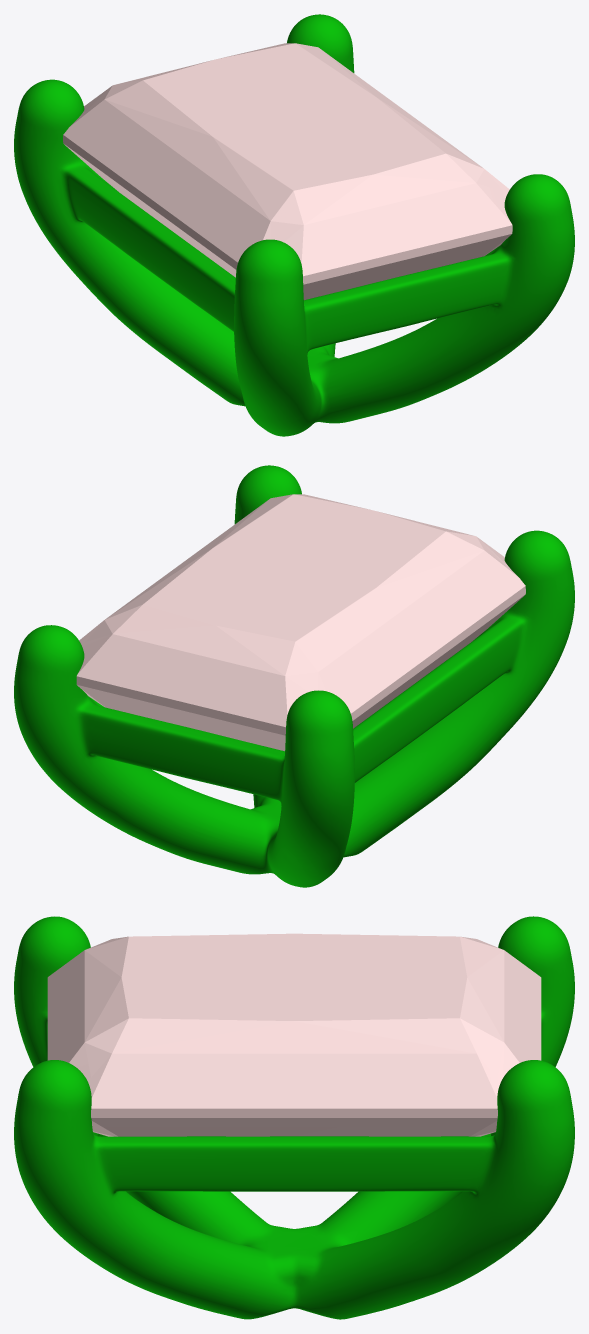
The picture shows the model from 3 angles, top to bottom: view 1: azimuth 30°, elevation 25°; view 2: azimuth 150°, elevation 25°; view 3: azimuth 270°, elevation 25°; orthographic projection. The views are drawn at different scales.
Visible parts, largest first — view 1: Metal01, Diamond_Radiant; view 2: Metal01, Diamond_Radiant; view 3: Metal01, Diamond_Radiant.
Boxes of the visible parts, x1,y1,x2,y2 form: Metal01: (14, 14, 574, 436); Diamond_Radiant: (63, 43, 512, 300); Metal01: (14, 465, 574, 887); Diamond_Radiant: (76, 494, 525, 751); Metal01: (14, 916, 574, 1319); Diamond_Radiant: (47, 933, 541, 1136).
Bounding box in the file's own units: 7.4 × 6.27 × 9.88.
